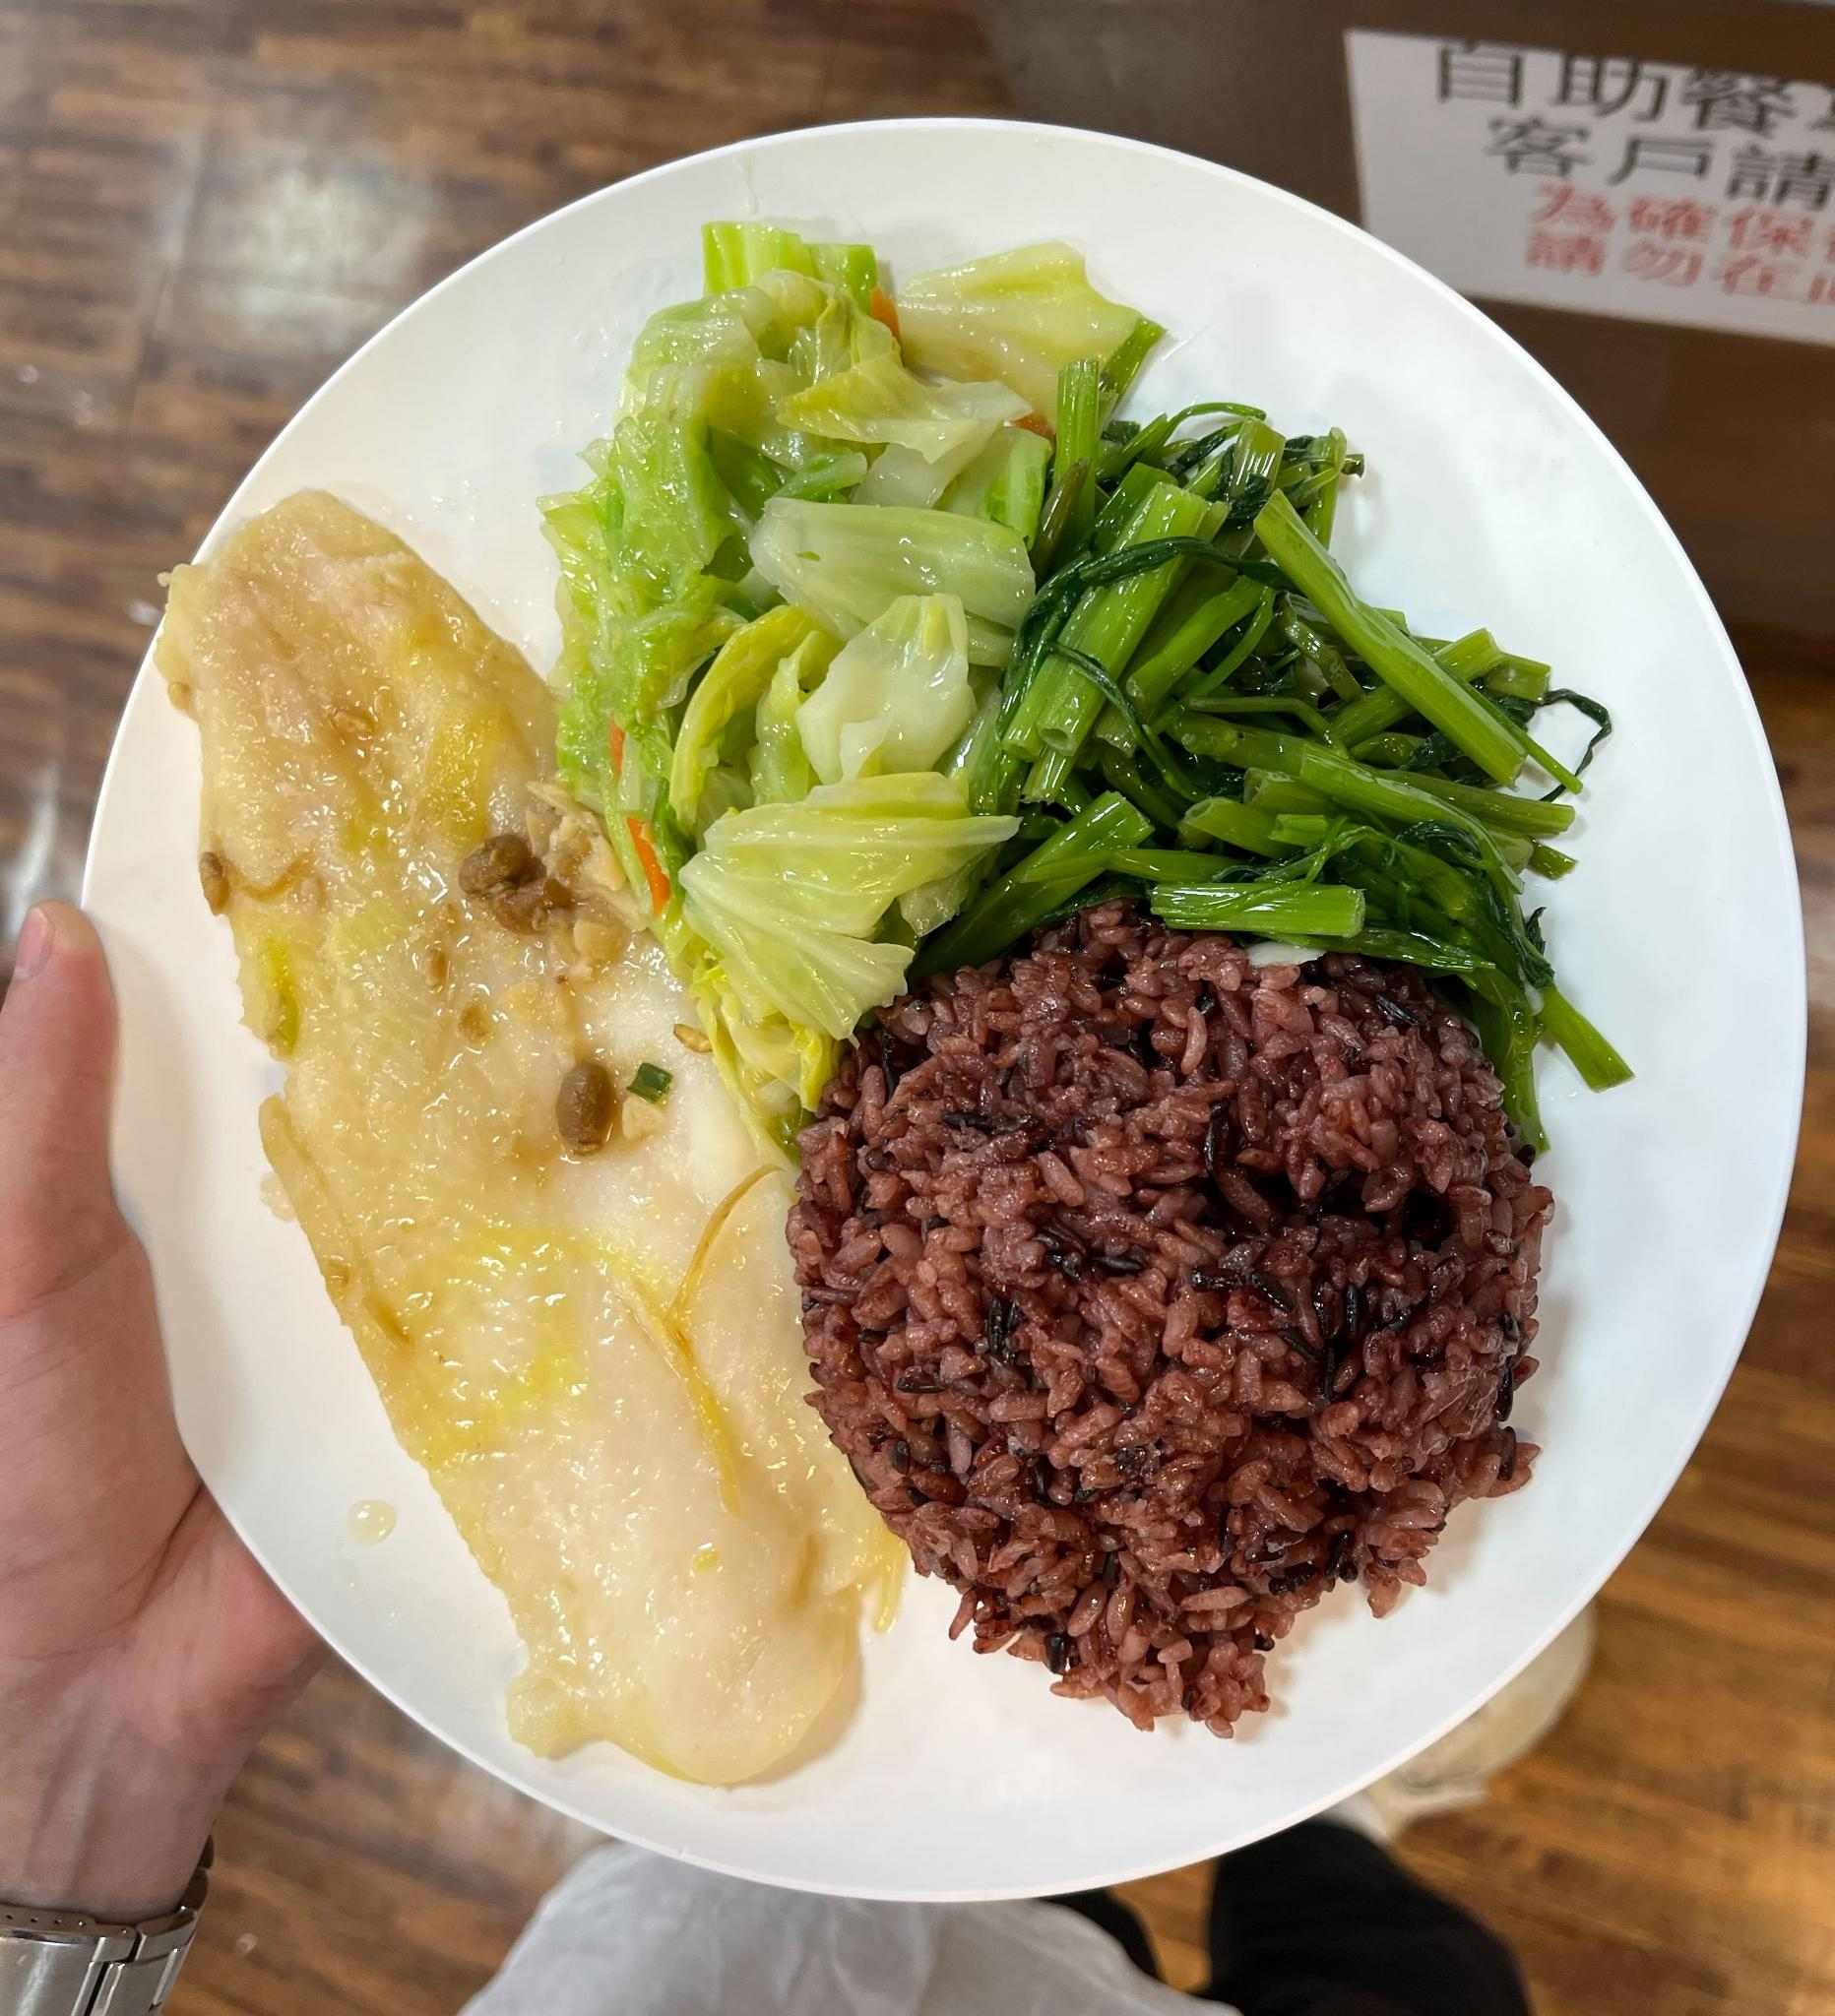big fried chicken leg: (61, 54, 1835, 1911)
braised fish: (760, 889, 1566, 1746)
braised fish fillet: (557, 227, 1120, 1096), (964, 379, 1591, 1006)
braised pork ribs: (116, 481, 920, 1791)
